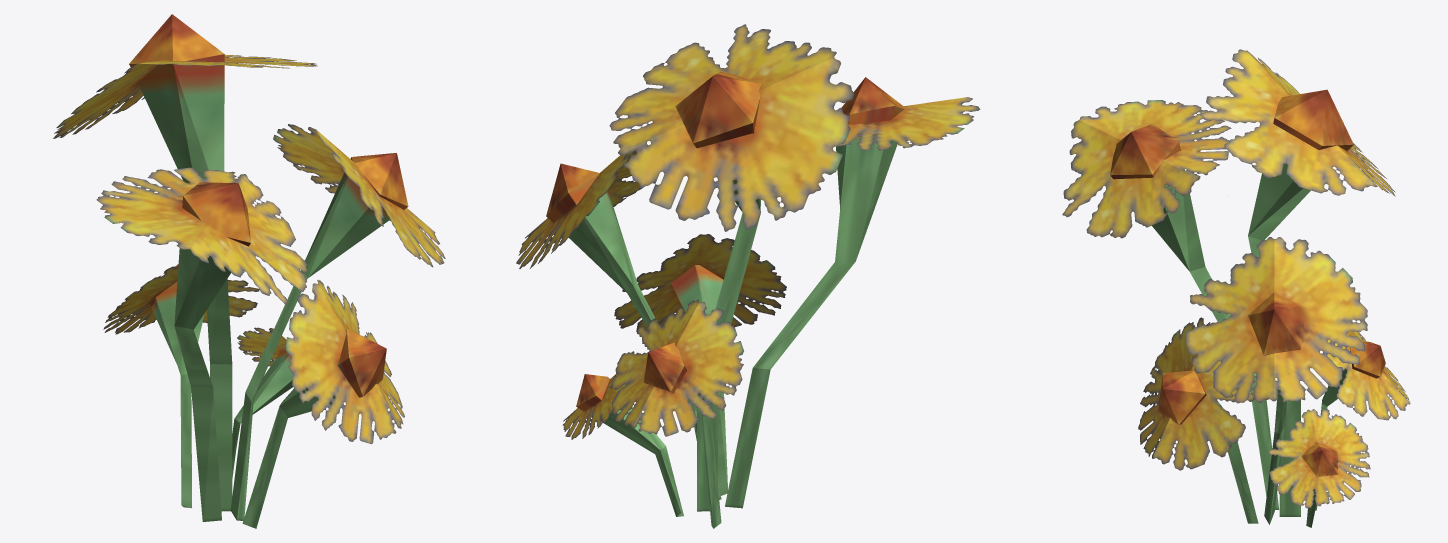
Rendered from C1SNYELW.obj.
The picture shows the model from 3 angles, left to right: view 1: azimuth 30°, elevation 25°; view 2: azimuth 150°, elevation 25°; view 3: azimuth 270°, elevation 25°; orthographic projection. The views are drawn at different scales.
Parts seen in each view (by area): view 1: Node 0; view 2: Node 0; view 3: Node 0.
Part boxes in pixels (<box>): Node 0: <box>53,14,445,528</box>; Node 0: <box>516,24,980,528</box>; Node 0: <box>1062,49,1410,527</box>.
Bounding box in the file's own units: 0.8 × 0.93 × 0.73.
1 material, 1 textured.
